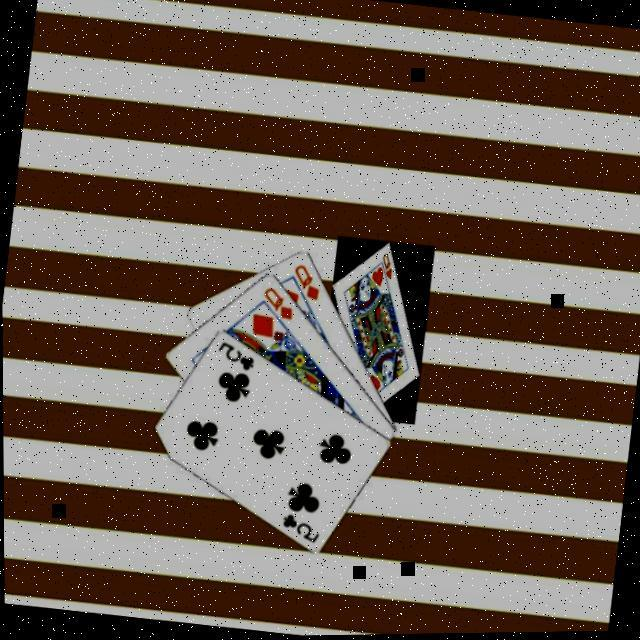5C: (213, 338, 260, 376), (278, 511, 324, 548)
QD: (288, 261, 326, 305), (259, 284, 299, 324)
